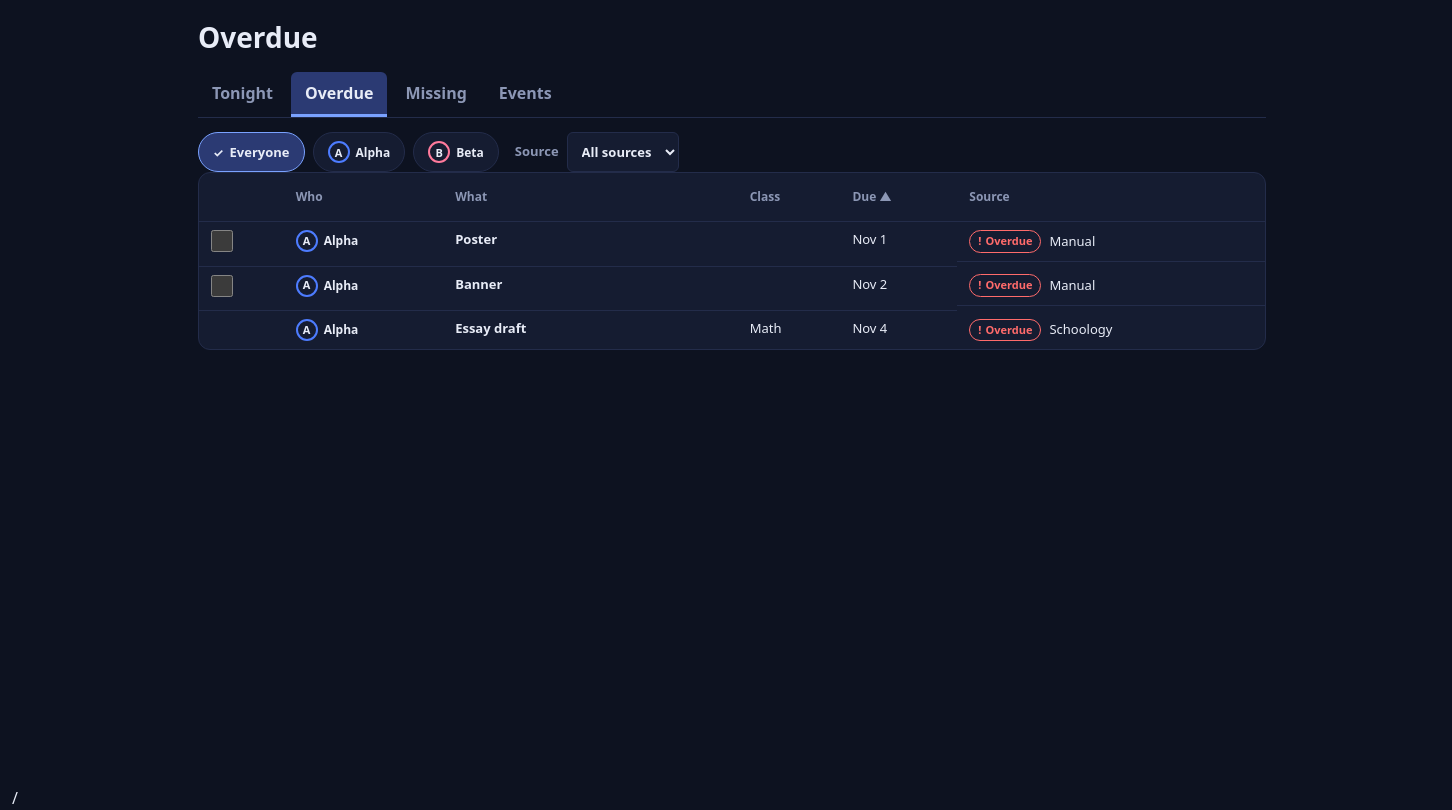
a failed check-off also refetches the overview
The image size is (1452, 810).
Expected: the table is shown, [199,173,1265,349]
Click the checkbox named "poster" at (222, 241), box [211,230,233,252]
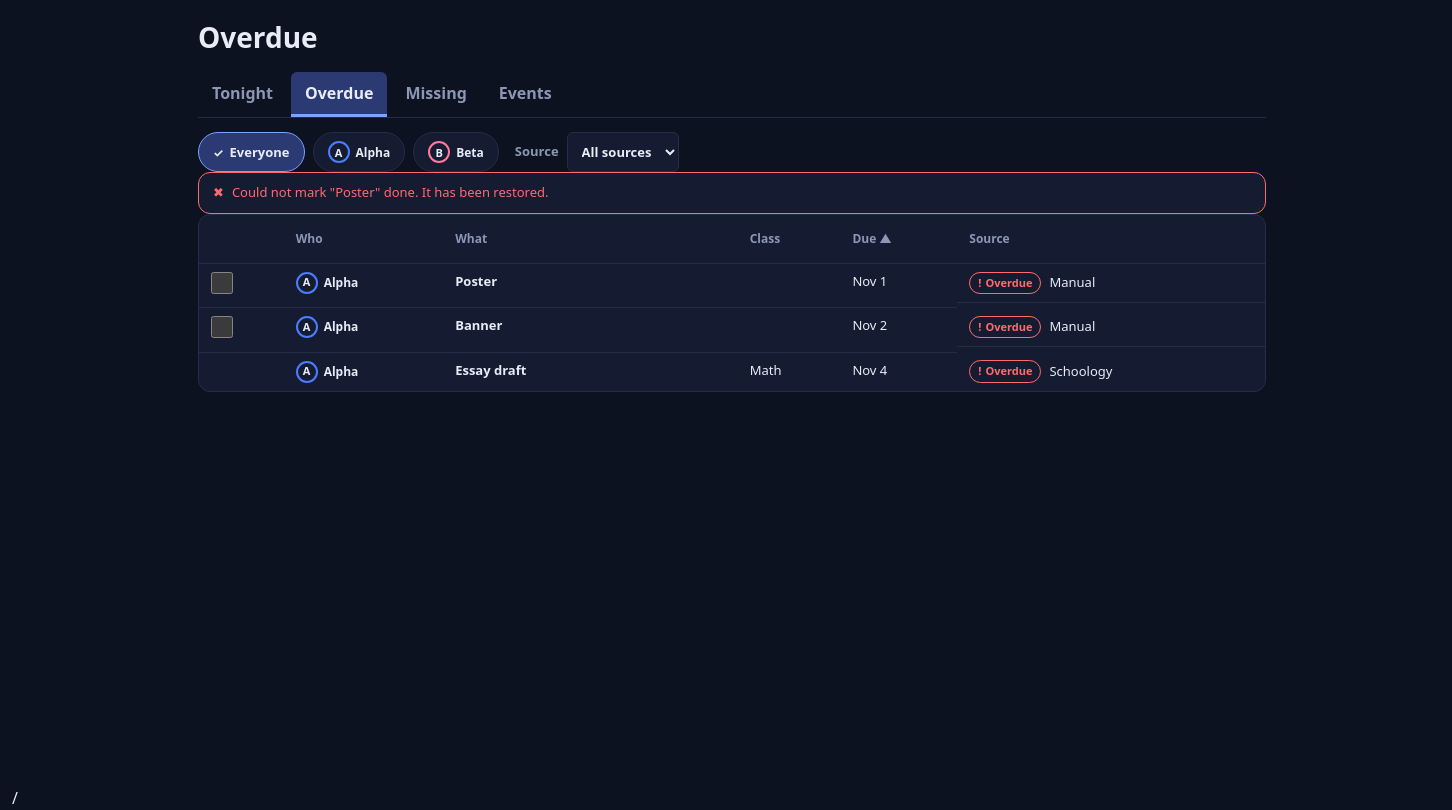
Expected: the message "✖ Could not mark \"Poster\" done. It has been restored." is shown, [198,172,1266,214]
